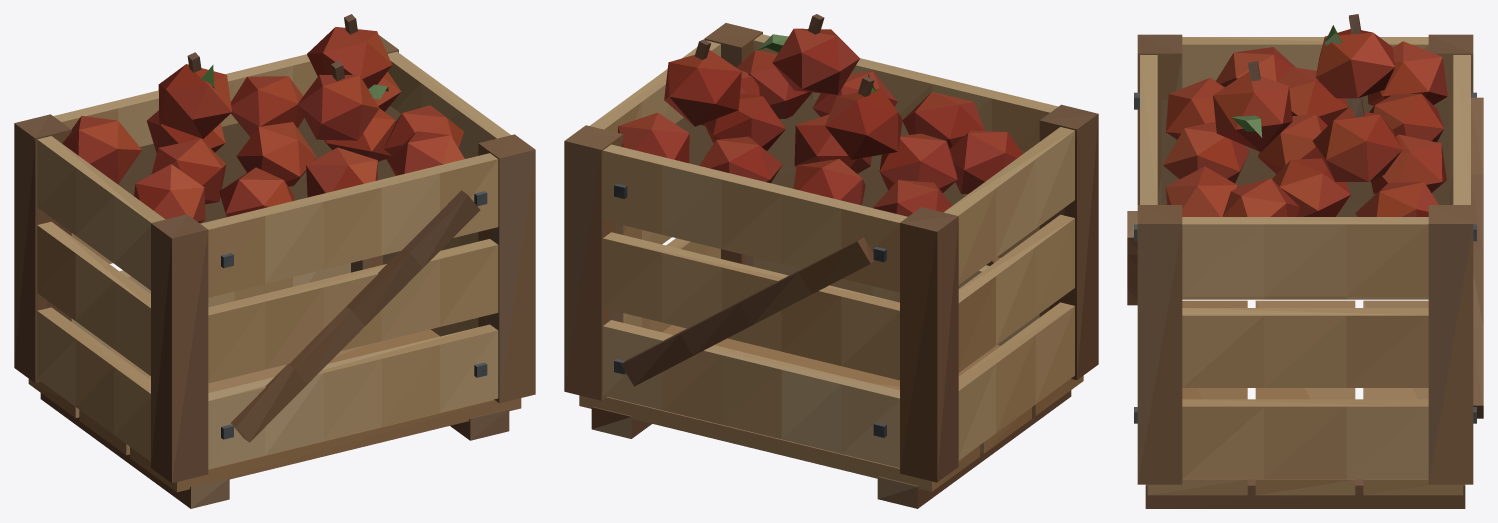
The model's file is crate-produce.clunk-optimized.glb.
3 views of the same model, side by side, from view 1: azimuth 30°, elevation 25°; view 2: azimuth 150°, elevation 25°; view 3: azimuth 270°, elevation 25° (orthographic). The views are drawn at different scales.
Parts seen in each view (by area): view 1: crate_body, produce, hardware; view 2: crate_body, produce, hardware; view 3: crate_body, produce, hardware.
Boxes of the visible parts, x1,y1,x2,y2 form: crate_body: (14,35,535,508); produce: (62,14,464,223); hardware: (221,191,487,439); crate_body: (564,23,1098,508); produce: (618,14,1025,216); hardware: (614,183,886,437); crate_body: (1127,34,1483,508); produce: (1161,14,1449,216); hardware: (1134,92,1476,423).
Size of the model in its own units: 0.56 by 0.5308 by 0.446.
